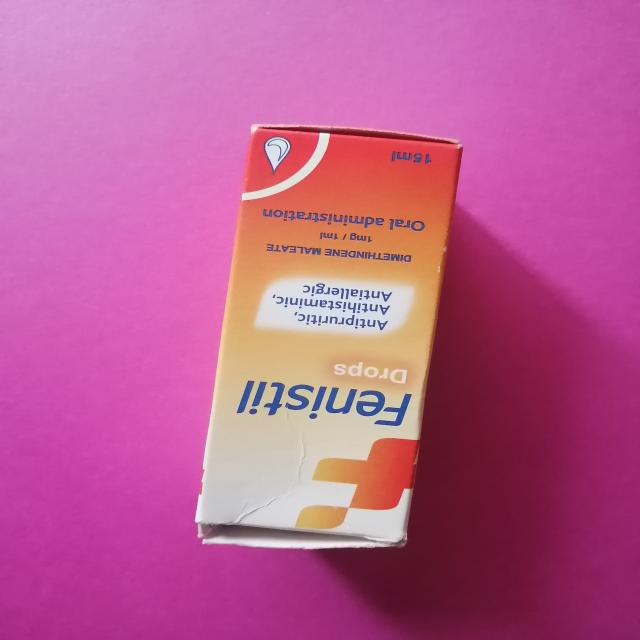Medicine: (178, 119, 464, 555)
